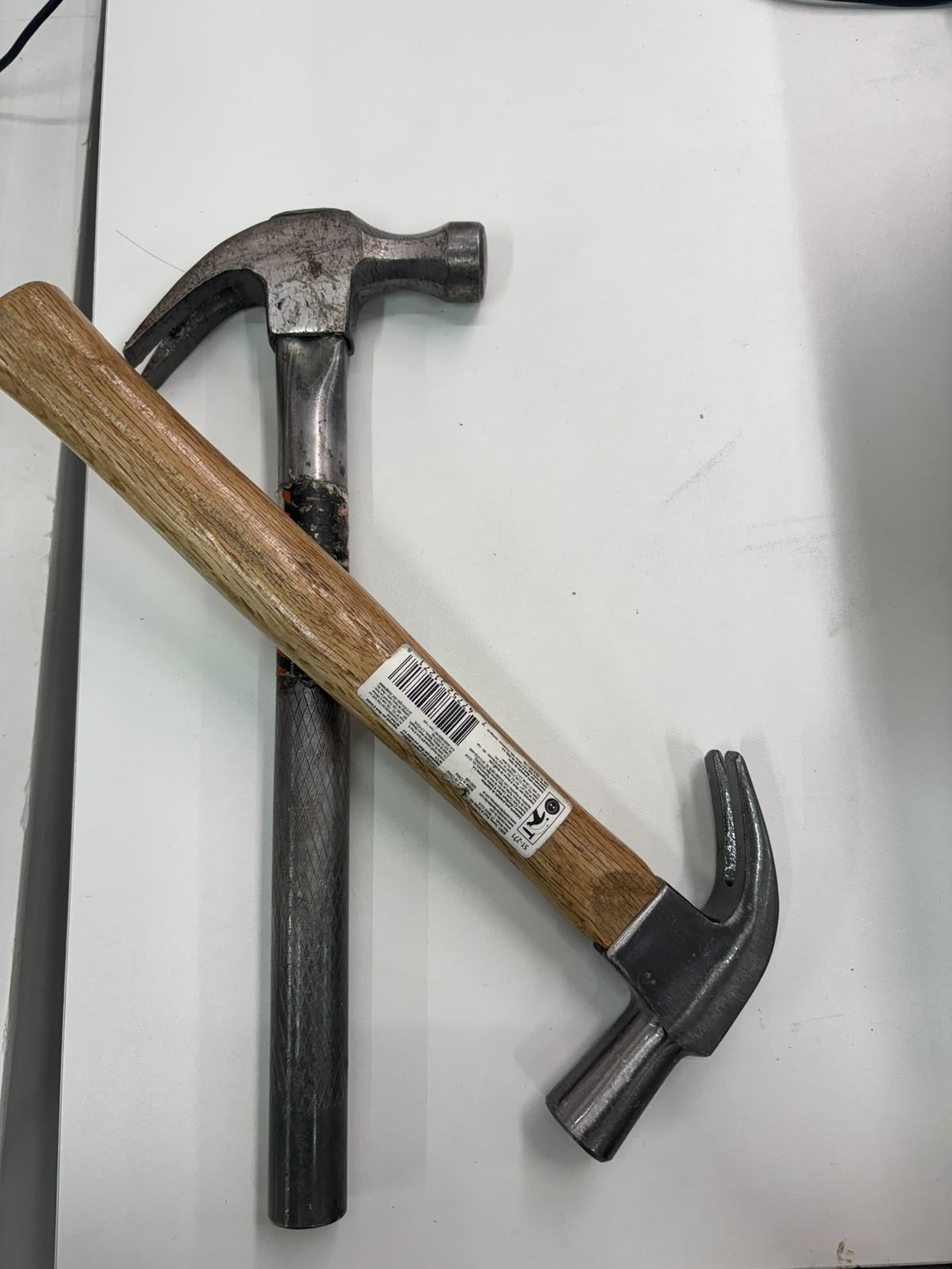hammer: (547, 712, 808, 1187), (111, 163, 526, 404)
